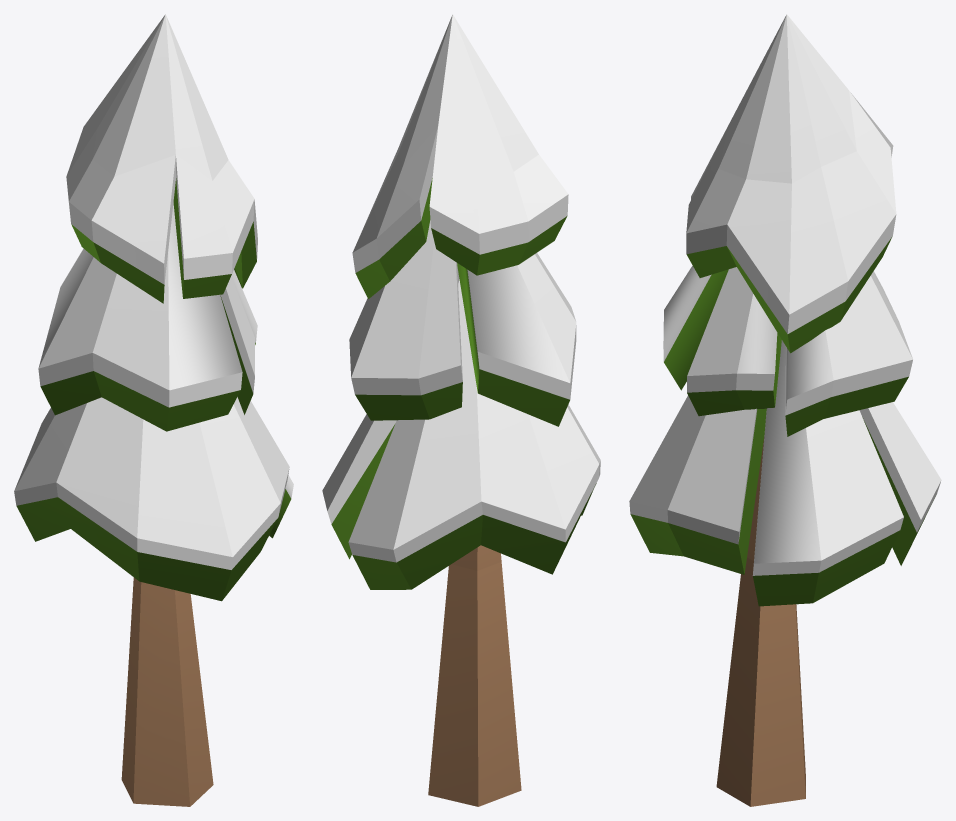
The model's file is snowtree01.glb.
The picture shows the model from 3 angles, left to right: view 1: azimuth 30°, elevation 25°; view 2: azimuth 150°, elevation 25°; view 3: azimuth 270°, elevation 25°; orthographic projection.
Visible parts, largest first — view 1: snowtree_01; view 2: snowtree_01; view 3: snowtree_01.
Part boxes in pixels (x1,y1,x2,y2): snowtree_01: [14, 14, 293, 806]; snowtree_01: [322, 14, 600, 806]; snowtree_01: [629, 14, 941, 806].
Size of the model in its own units: 0.4785 by 1.44 by 0.5225.
Materials: 1 (1 with a texture image).
